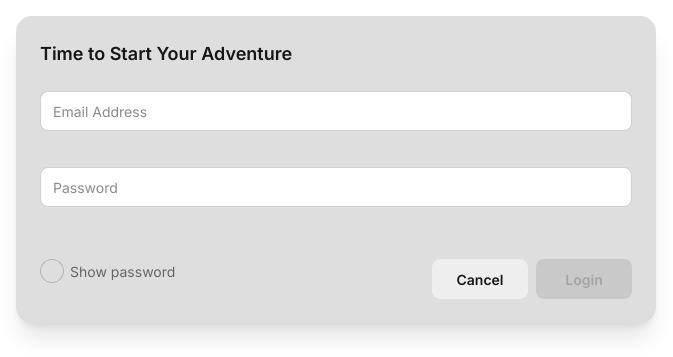
Login Page › Email Input › required error › is no longer displayed after text entry
This screenshot has width=673, height=357.
Click the field labelled "Email Address" at (336, 111), box [40,91,632,131]
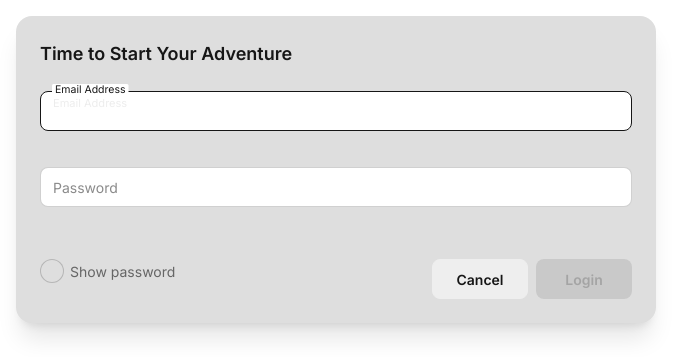
Press Tab
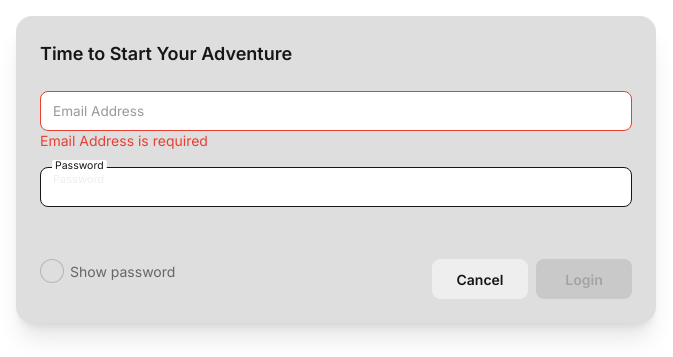
Type "f" into the field labelled "Email Address" at (336, 111), box [40,91,632,131]
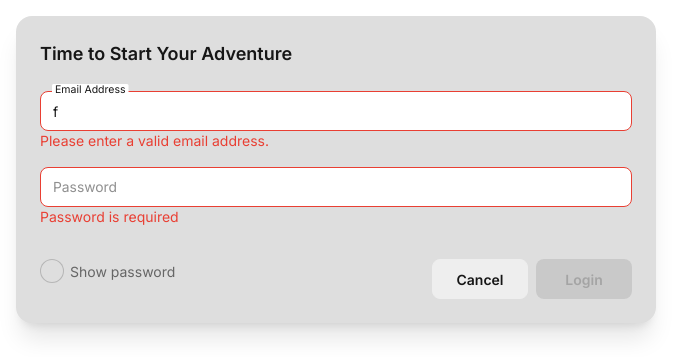
Now the text "Email Address is required" is gone
Clear the field labelled "Email Address" at (336, 111), box [40,91,632,131]
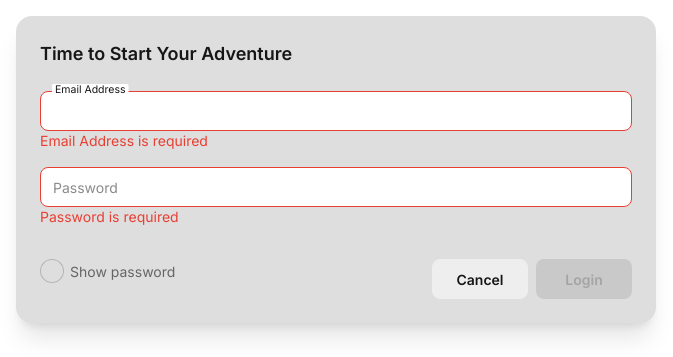
Now the text "Email Address is required" is shown, box [40,132,208,149]
